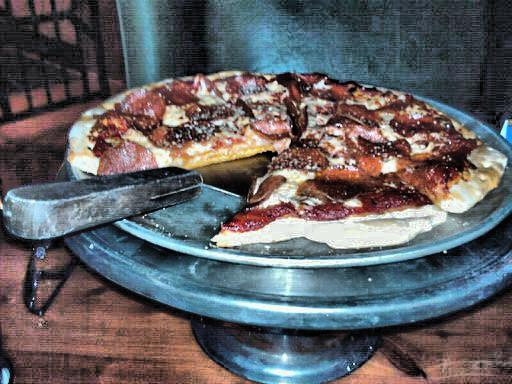pizza: (63, 38, 497, 234)
